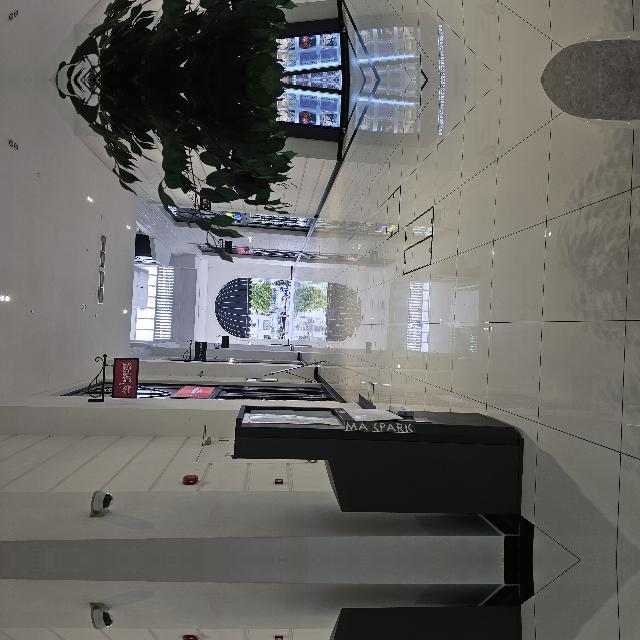obstacle: (43, 308, 164, 606), (42, 514, 163, 640)
